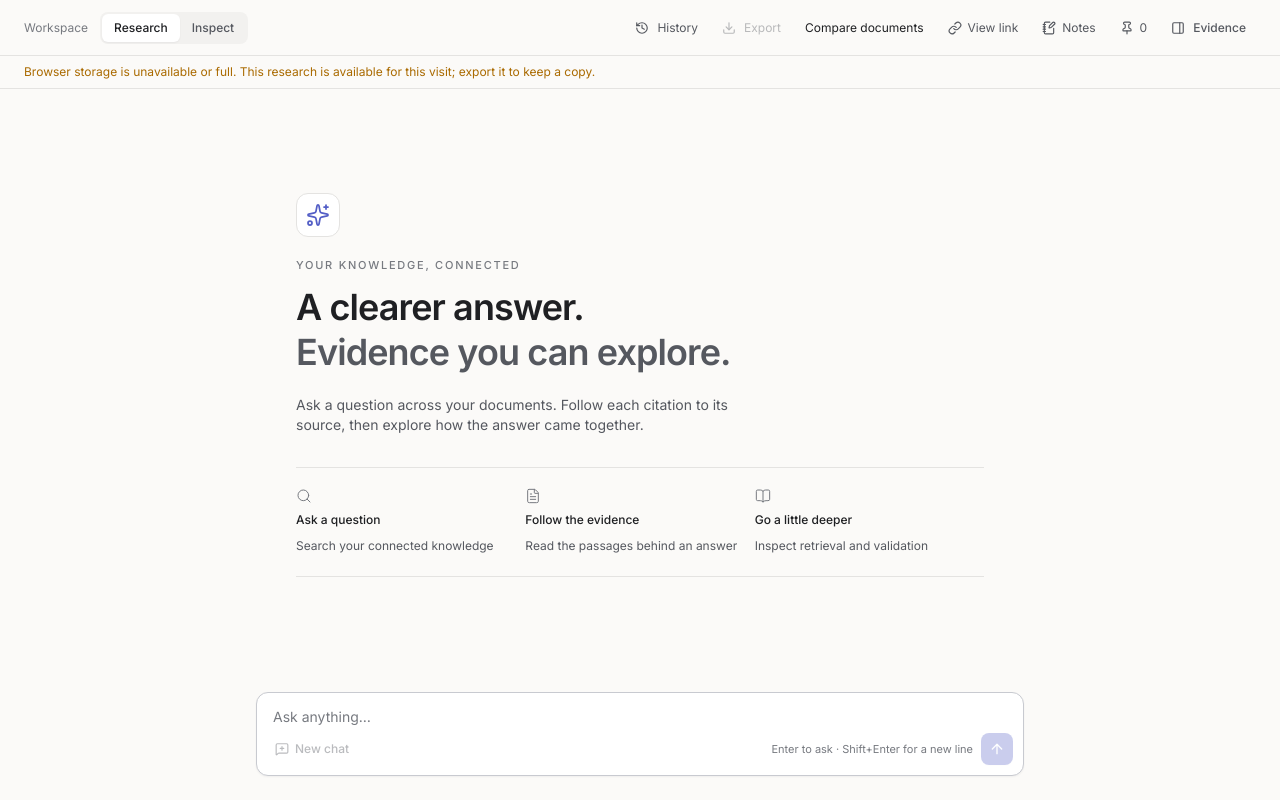
Playground evidence flow › keeps research usable and reports when browser persistence fails
The image size is (1280, 800).
Expected: the text "Browser storage is unavailable or full" is shown, x1=24 y1=64 x2=595 y2=79
Type "In-memory research" into the text box named "Question".
click(640, 710); type("In-memory research")  # box x1=257 y1=693 x2=1023 y2=727
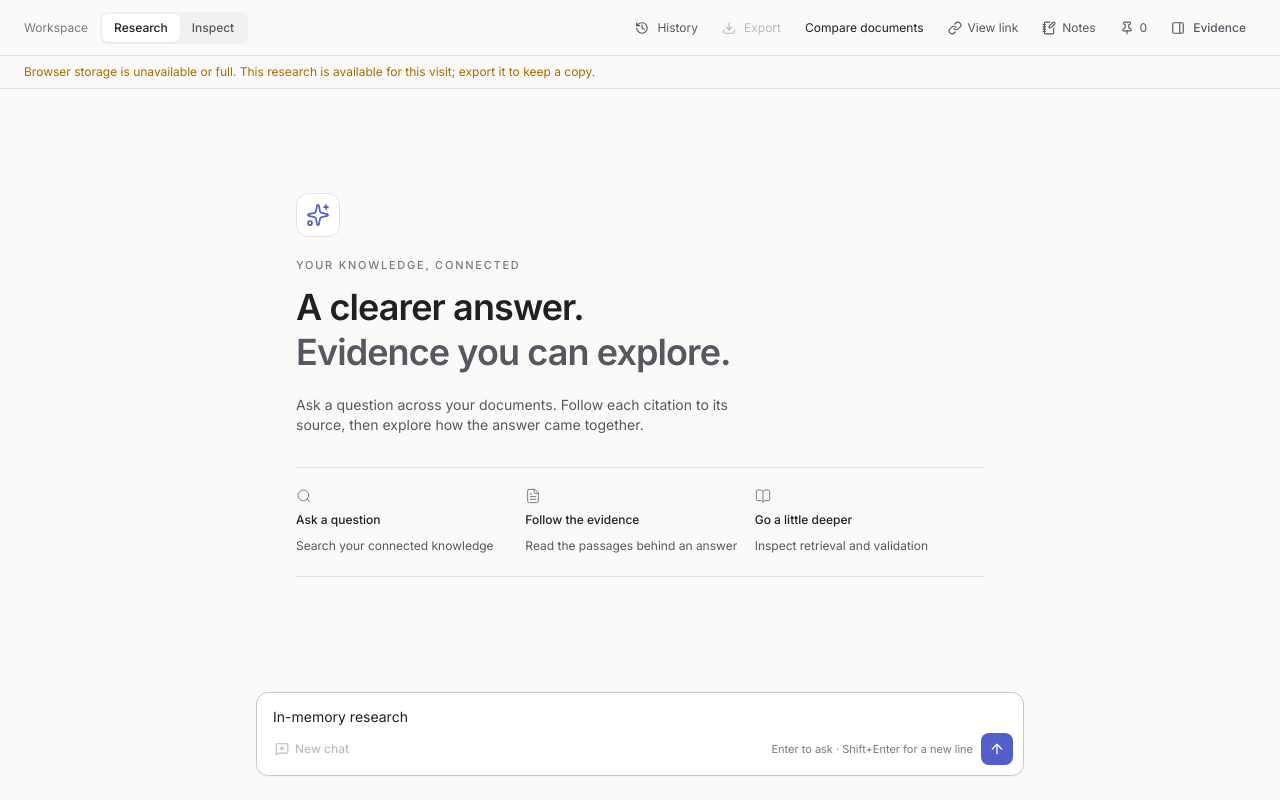
Click the button named "Ask".
click(997, 749)  # box x1=981 y1=733 x2=1013 y2=765
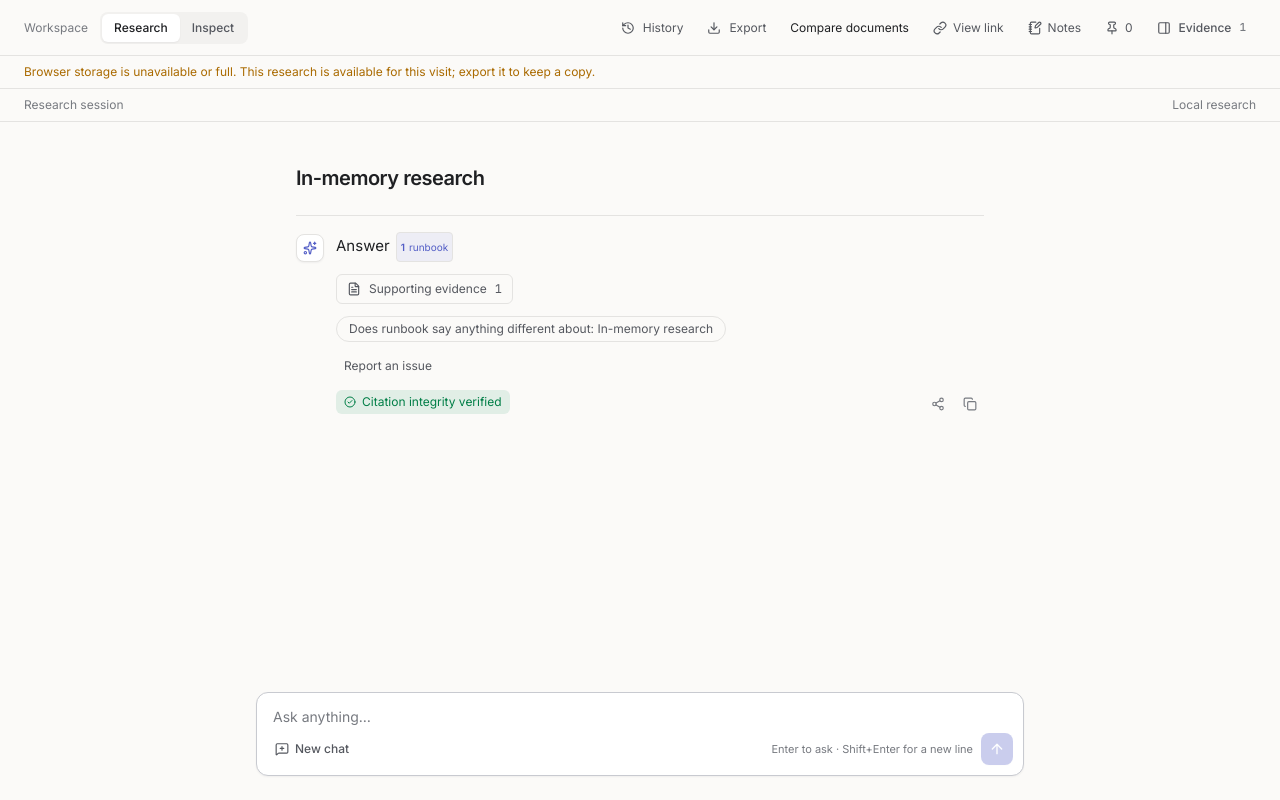
Result: the button with aria-label "Jump to source 1" is shown at x1=396 y1=232 x2=453 y2=262
Result: the button with aria-label "Export research as Markdown" is enabled at x1=697 y1=14 x2=776 y2=42
